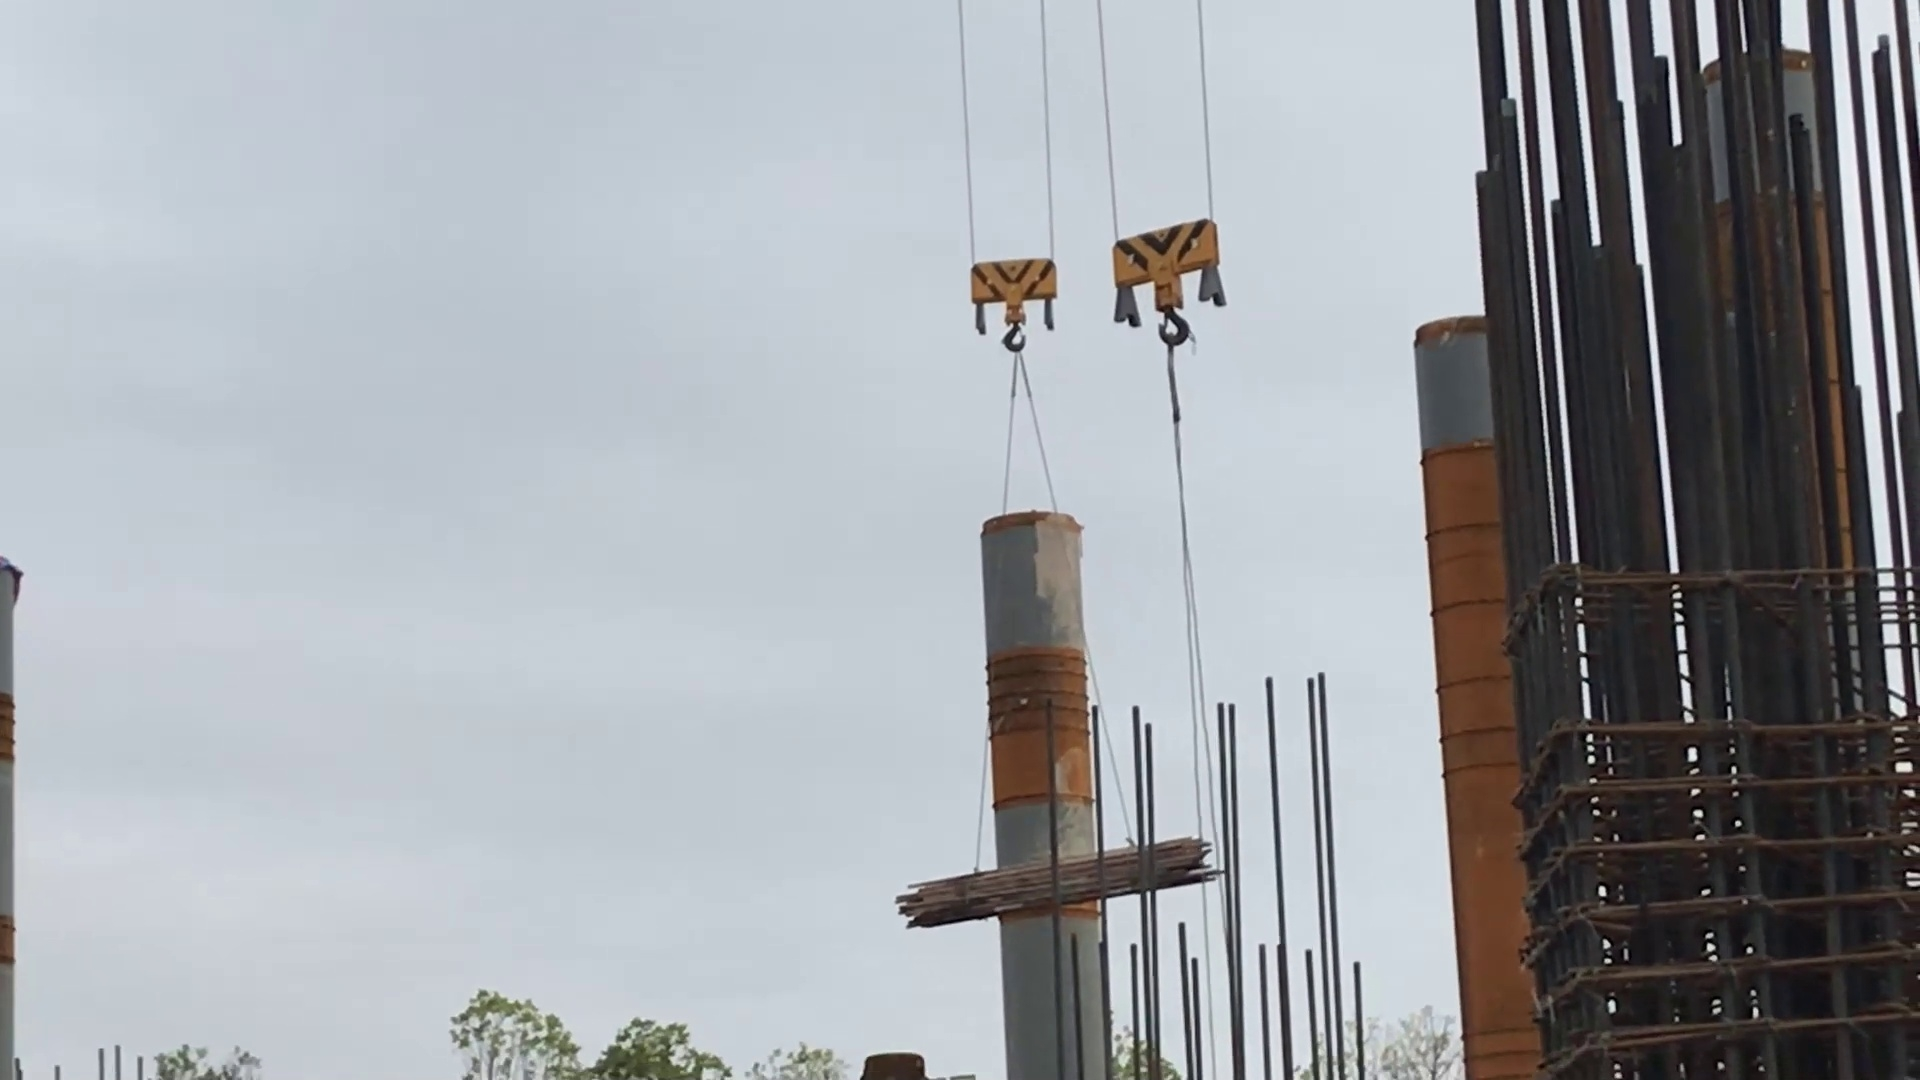hook: (1108, 216, 1230, 349), (967, 252, 1060, 353)
